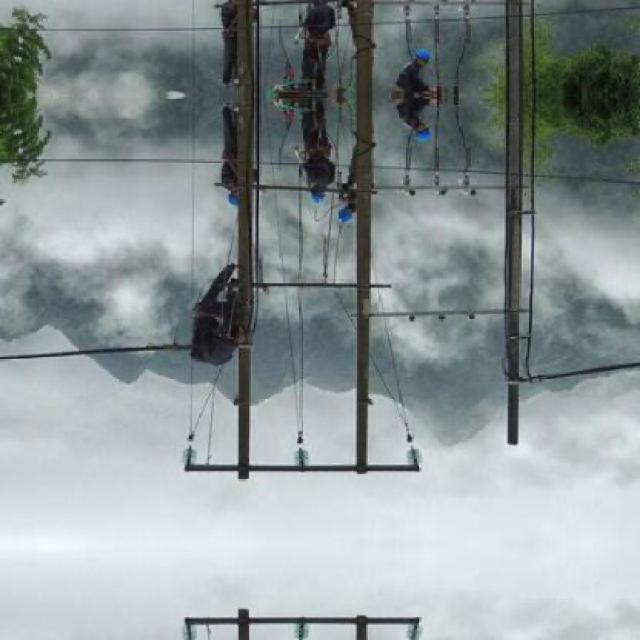con casco: (292, 168, 328, 203), (414, 128, 447, 160), (232, 193, 255, 220), (344, 197, 358, 222)
